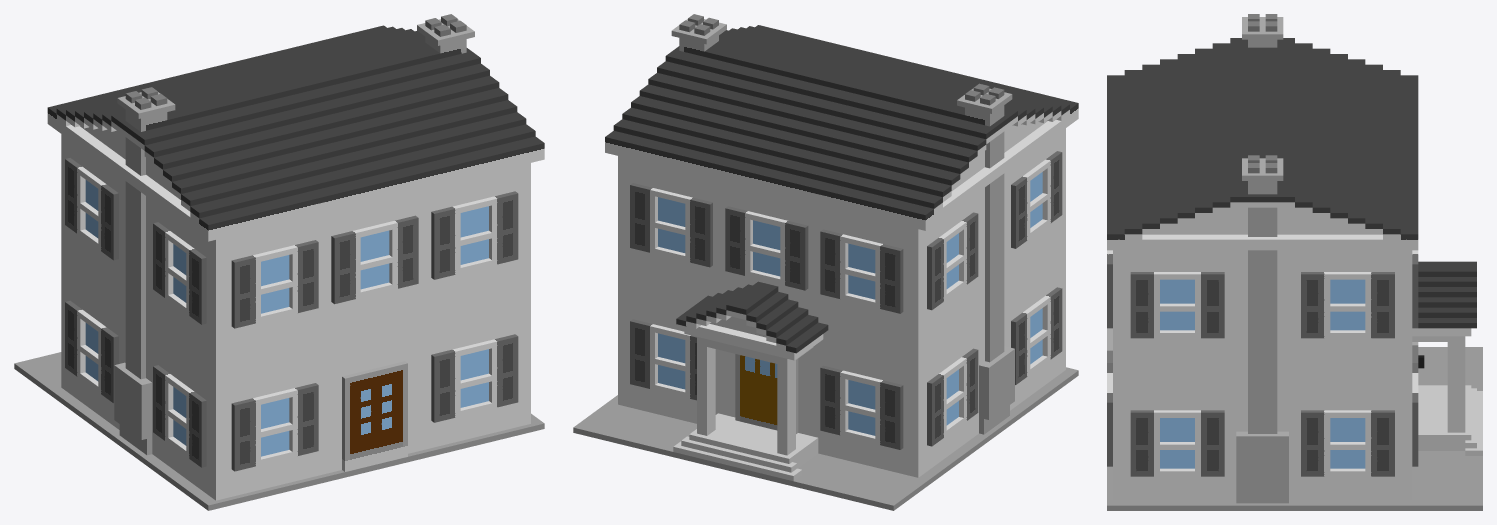
The model's file is obj_house4.fbx.
The picture shows the model from 3 angles, left to right: view 1: azimuth 30°, elevation 25°; view 2: azimuth 150°, elevation 25°; view 3: azimuth 270°, elevation 25°; orthographic projection. The views are drawn at different scales.
Parts seen in each view (by area): view 1: obj_house4; view 2: obj_house4; view 3: obj_house4.
Boxes of the visible parts, x1,y1,x2,y2 form: obj_house4: (14, 14, 544, 510); obj_house4: (573, 14, 1078, 510); obj_house4: (1107, 14, 1482, 510).
Bounding box in the file's own units: 6.4 × 6.4 × 6.4.
Materials: 1 (1 with a texture image).
